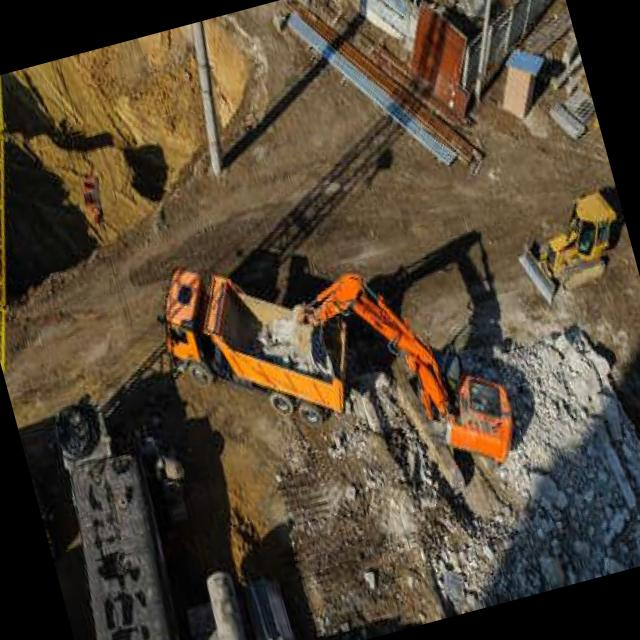Camion volquete: (144, 224, 376, 464)
Excavadora: (278, 235, 542, 534)
pala cargadora: (506, 186, 635, 310)
